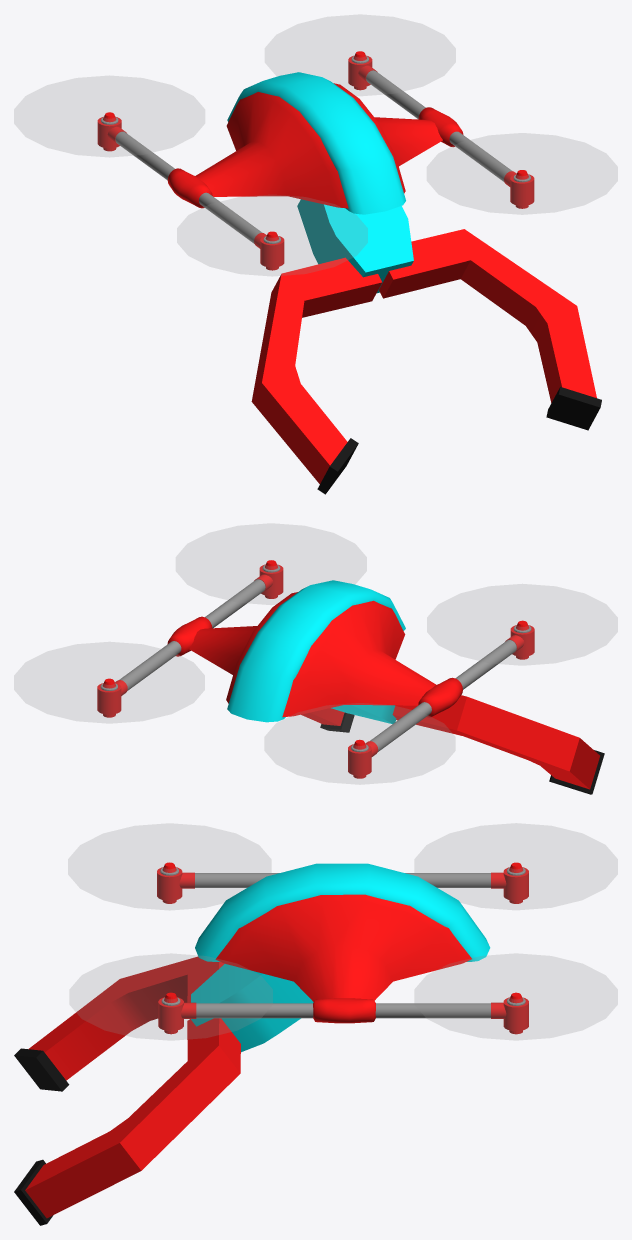
The model's file is Drone_v1_with_grabber.FBX.
3 renders of one model, top to bottom at view 1: azimuth 30°, elevation 25°; view 2: azimuth 150°, elevation 25°; view 3: azimuth 270°, elevation 25°, orthographic. The views are drawn at different scales.
Visible parts, largest first — view 1: Plane002; view 2: Plane002; view 3: Plane002.
Part boxes in pixels (x1,y1,x2,y2): Plane002: (14, 14, 617, 494); Plane002: (14, 523, 617, 794); Plane002: (14, 823, 617, 1225).
Size of the model in its own units: 87.57 by 53.47 by 103.
